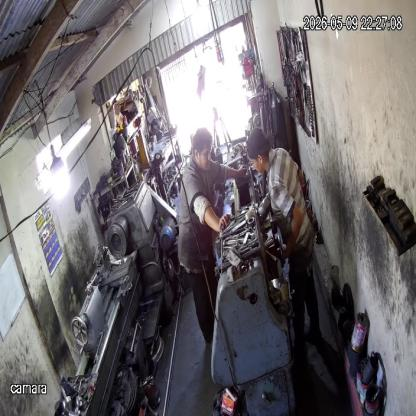sin_lentes: (198, 148, 215, 160)
